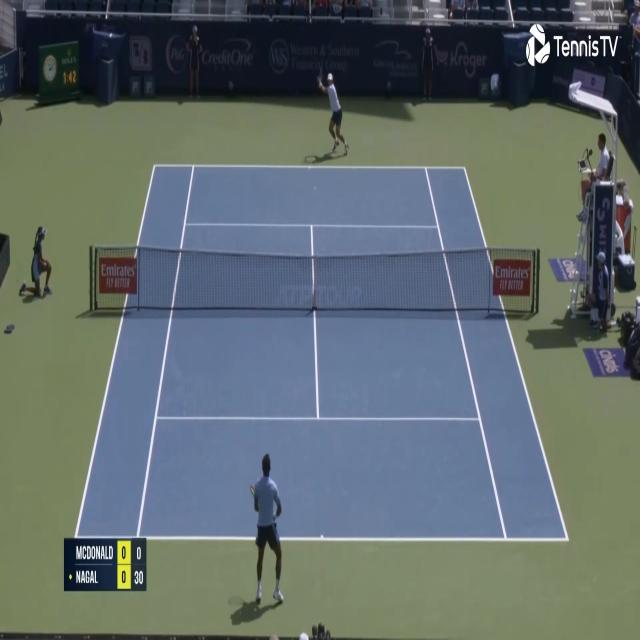tennis-player: (246, 450, 286, 610), (314, 67, 351, 162)
